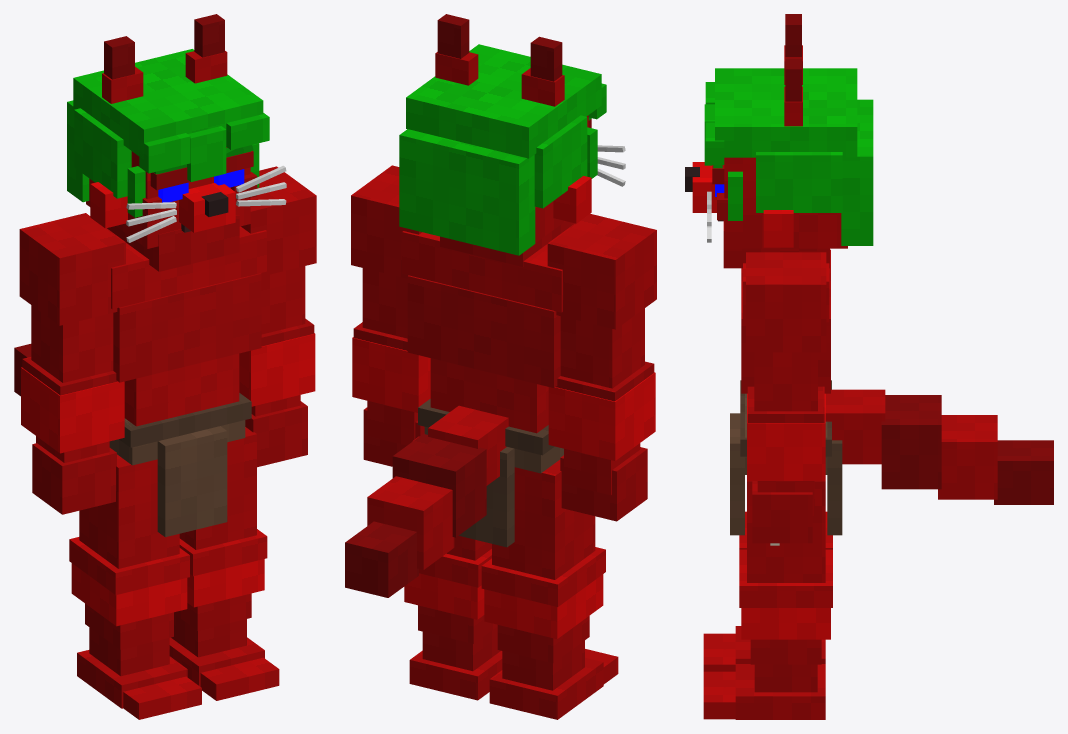
The model's file is beastfolk_s1.glb.
3 renders of one model, left to right at view 1: azimuth 30°, elevation 25°; view 2: azimuth 150°, elevation 25°; view 3: azimuth 270°, elevation 25°, orthographic. The views are drawn at different scales.
Parts seen in each view (by area): view 1: Head, Torso, ArmR, LegR, LegL, ArmL; view 2: Torso, Head, ArmR, LegR, ArmL, LegL; view 3: Head, Torso, ArmL, LegL, LegR.
Part boxes in pixels (x1,y1,x2,y2): Head: (67,14,286,271); Torso: (14,226,266,537); ArmR: (19,213,125,514); LegR: (69,454,201,719); LegL: (169,427,279,700); ArmL: (239,166,316,467); Torso: (345,231,563,597); Head: (399,14,625,266); ArmR: (547,213,656,521); LegR: (481,459,618,719); ArmL: (351,165,430,466); LegL: (404,436,502,700); Head: (685,14,873,268); Torso: (730,249,1053,535); ArmL: (746,252,826,545); LegL: (703,481,832,719); LegR: (703,511,832,671).
Bounding box in the file's own units: 0.797 × 1.89 × 0.985.
23 materials, 23 textured.
